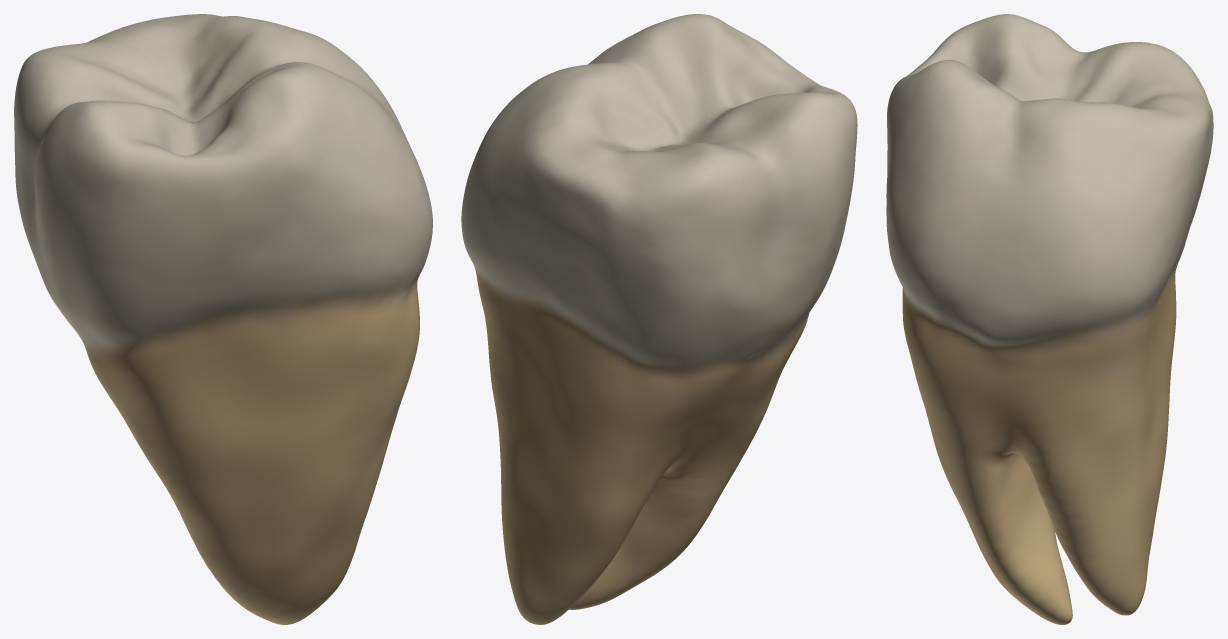
Rendered from mandibular_third_molar.glb.
The picture shows the model from 3 angles, left to right: view 1: azimuth 30°, elevation 25°; view 2: azimuth 150°, elevation 25°; view 3: azimuth 270°, elevation 25°; orthographic projection. The views are drawn at different scales.
Parts seen in each view (by area): view 1: Object_2; view 2: Object_2; view 3: Object_2.
Part boxes in pixels (<box>): Object_2: <box>14,14,432,624</box>; Object_2: <box>461,14,857,624</box>; Object_2: <box>886,14,1213,624</box>.
Bounding box in the file's own units: 0.9727 × 1.53 × 0.8586.
Materials: 1 (1 with a texture image).
